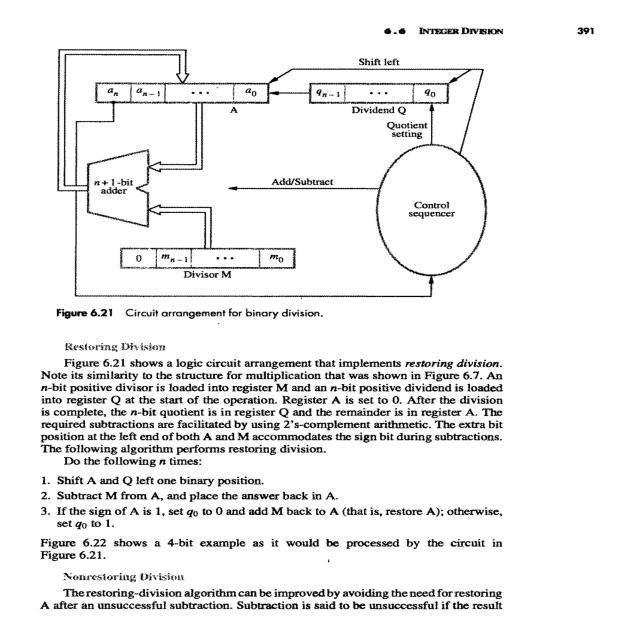diagram: (28, 44, 557, 335)
